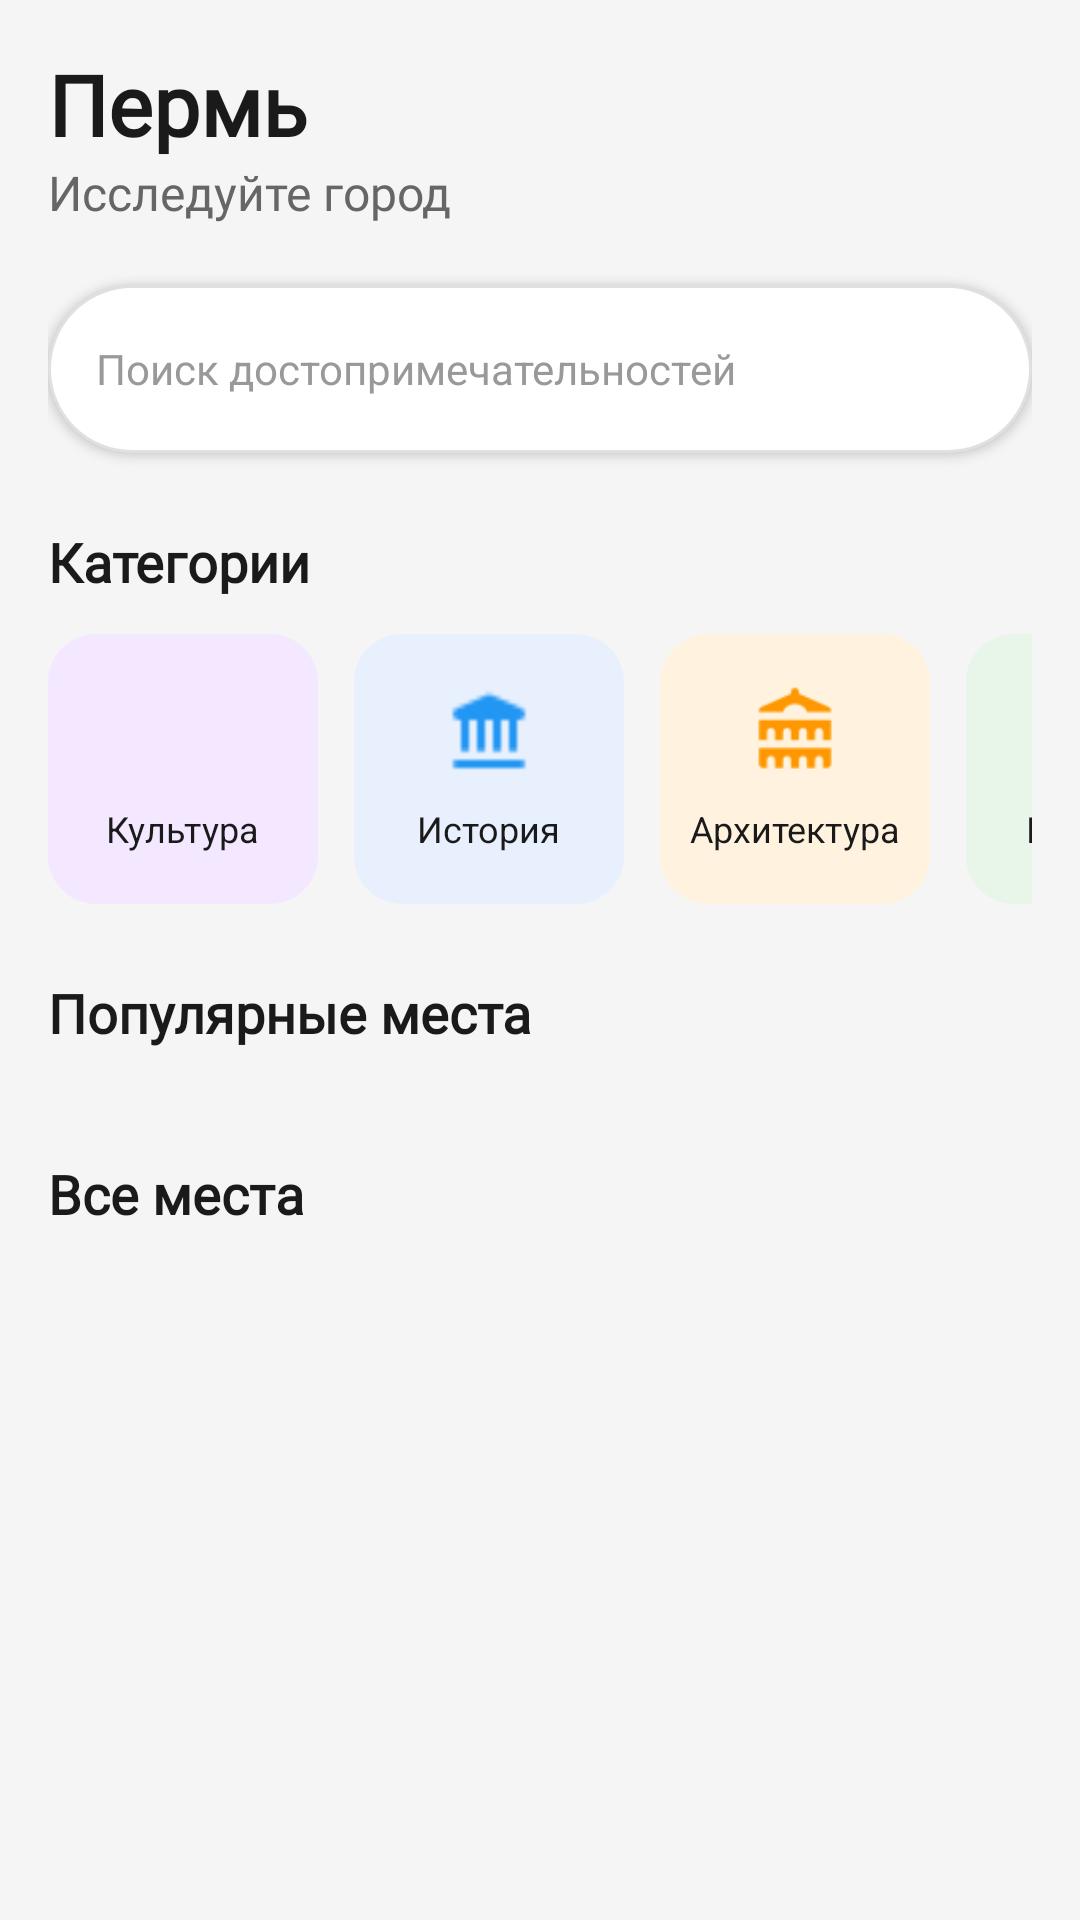

Icons on this 1080 x 1920 Android screen, each with the point to tap as (x,y):
architecture: (795,728)
history: (489,731)
